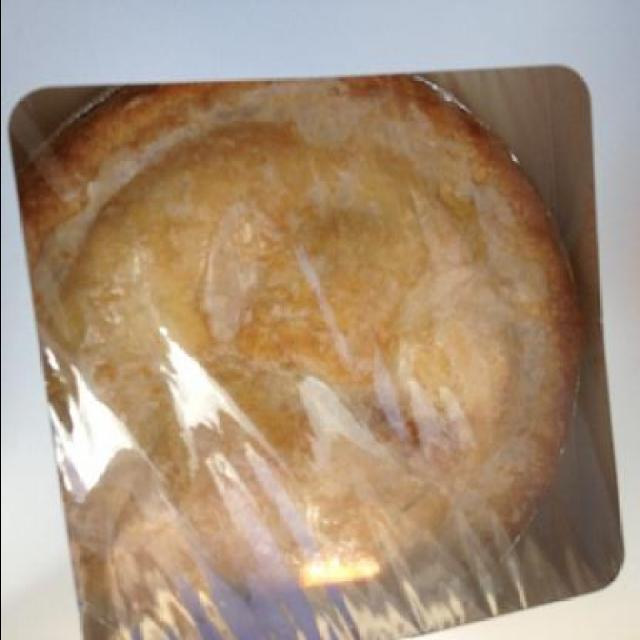Apple: (83, 84, 563, 562)
